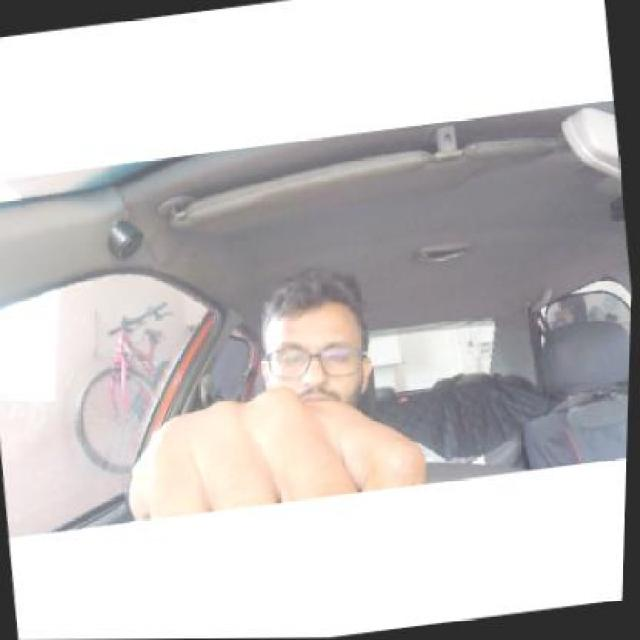drowsy: (264, 274, 386, 418)
